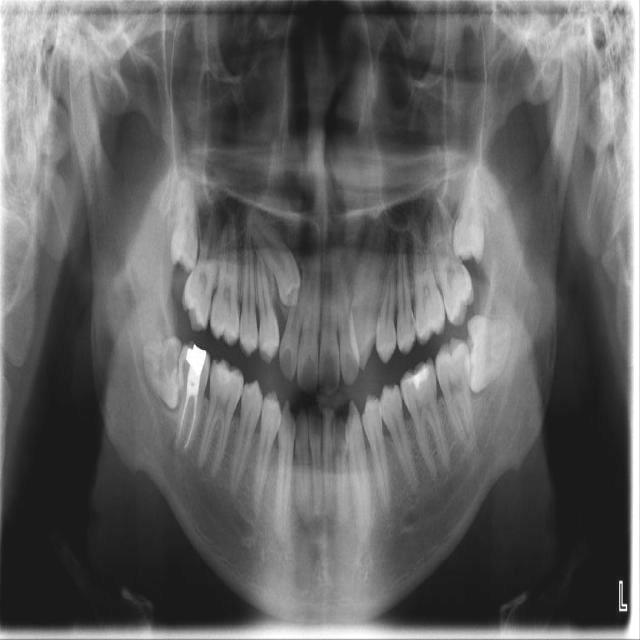Filling: (177, 340, 211, 397), (402, 366, 430, 387), (212, 363, 239, 383)
Root Canal Treatment: (176, 391, 193, 438), (183, 395, 196, 449)
impacted tooth: (247, 206, 301, 301), (467, 313, 512, 392), (451, 160, 486, 260), (141, 335, 180, 409), (171, 177, 198, 271)
